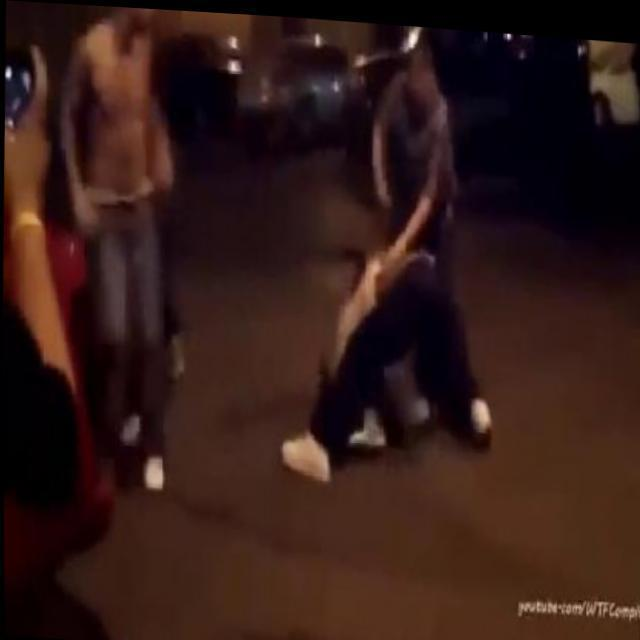fight: (282, 27, 506, 496)
